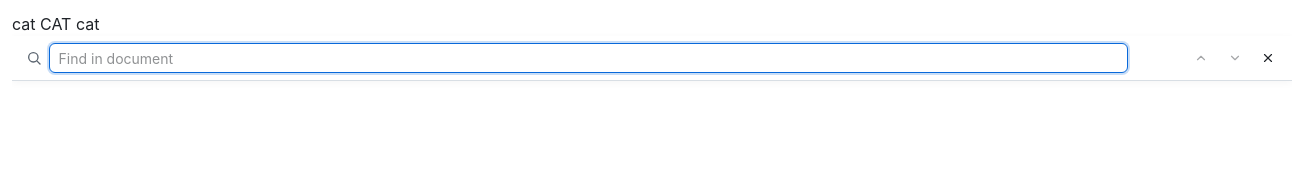
Scenario: SearchBar › Enter advances; Shift+Enter goes back; counter wraps
Step 1. Type "cat" into the field with test id "search-input" → (588, 58), box [49, 43, 1128, 73]
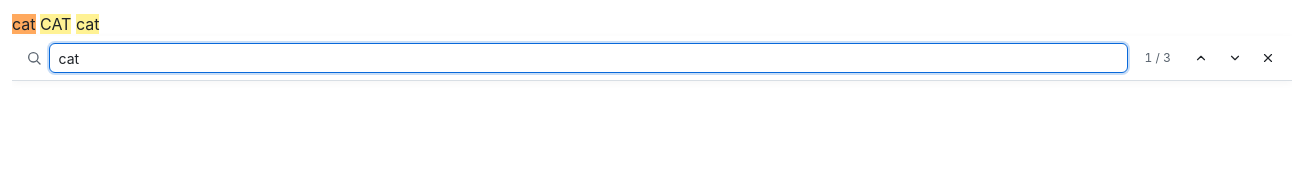
Now the text "1 / 3" is shown, box [1144, 50, 1171, 65]
Step 2. Press Enter
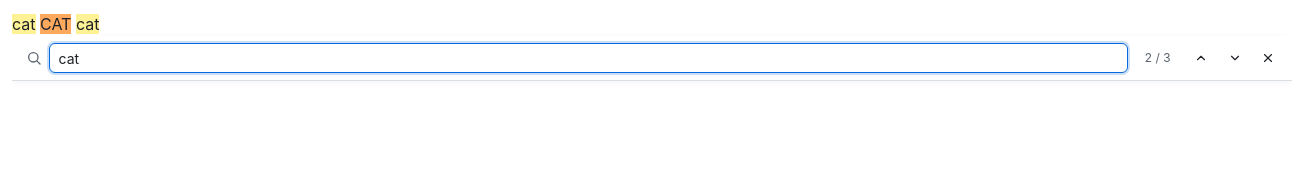
Now the text "2 / 3" is shown, box [1144, 50, 1171, 65]
Step 3. Press Enter
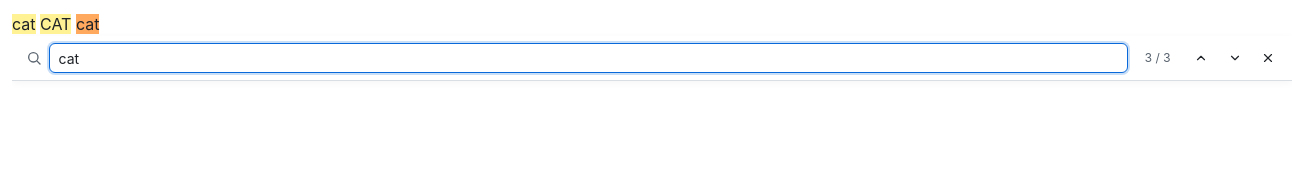
Now the text "3 / 3" is shown, box [1144, 50, 1171, 65]
# wrap forward
Step 4. Press Enter
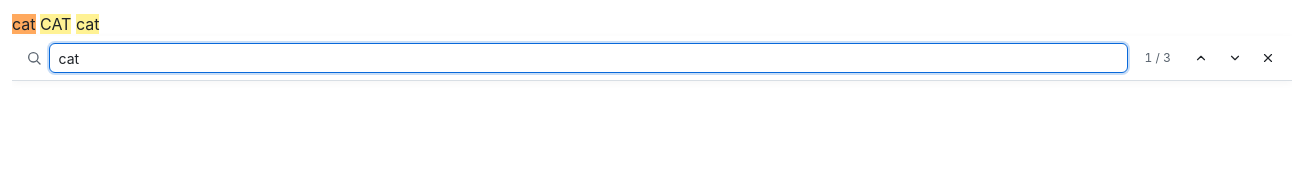
Now the text "1 / 3" is shown, box [1144, 50, 1171, 65]
# wrap backward
Step 5. Type keys "{Shift>}{Enter}{/Shift}"
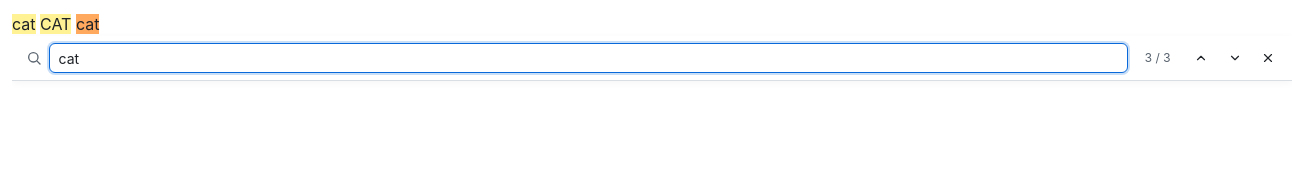
Now the text "3 / 3" is shown, box [1144, 50, 1171, 65]
